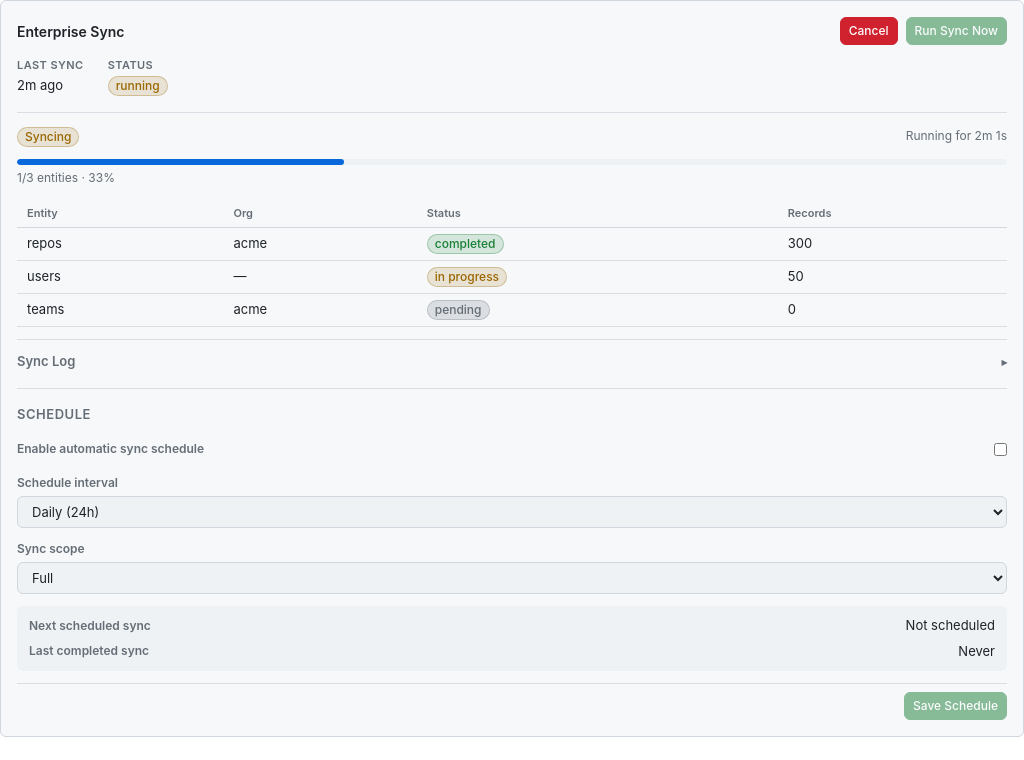
it: SyncPanel – sync log viewer › expands log viewer and shows empty state
Check: the element with test id "sync-log-viewer" is shown, box [17,339,1007,376]
Click the button "Sync Log ▸".
click(46, 361)  # box [17,348,1007,376]
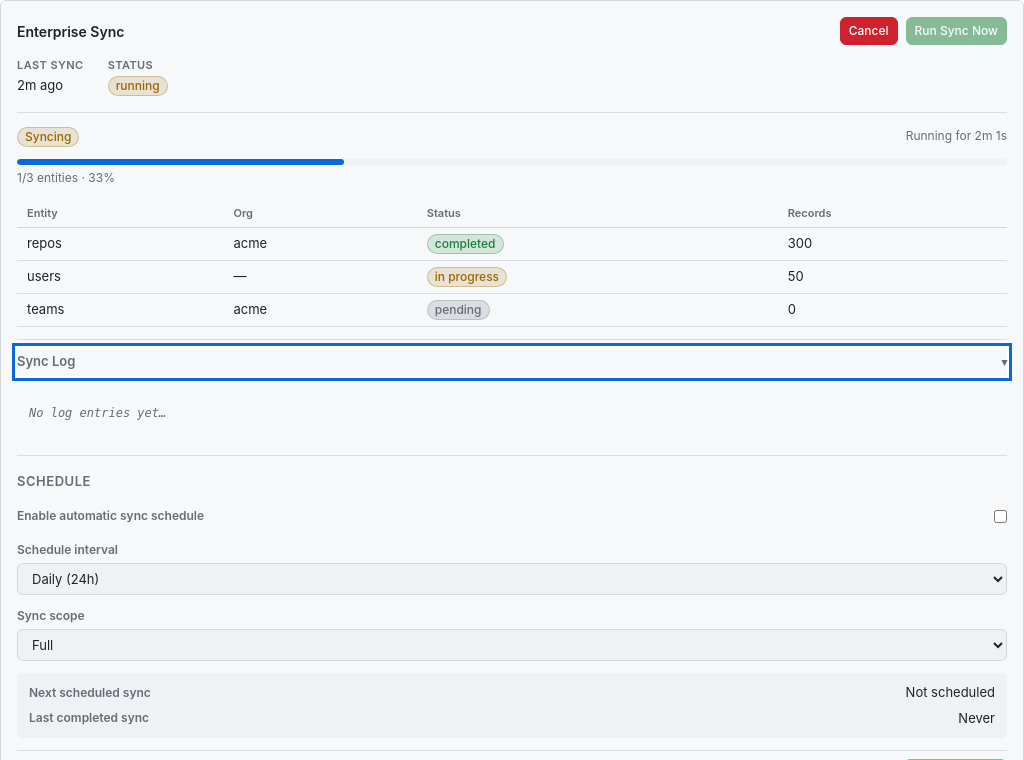
Check: the text "No log entries yet…" is shown, box [29,406,166,420]
